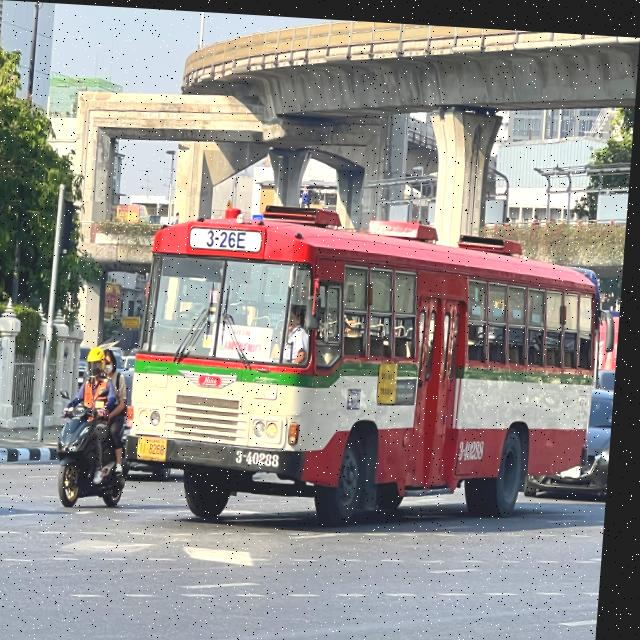BMTA-bus: (129, 201, 610, 537)
Bus-Line-Number: (205, 224, 257, 250)
Destination-Sign-Extra-Bus: (216, 322, 276, 359)
